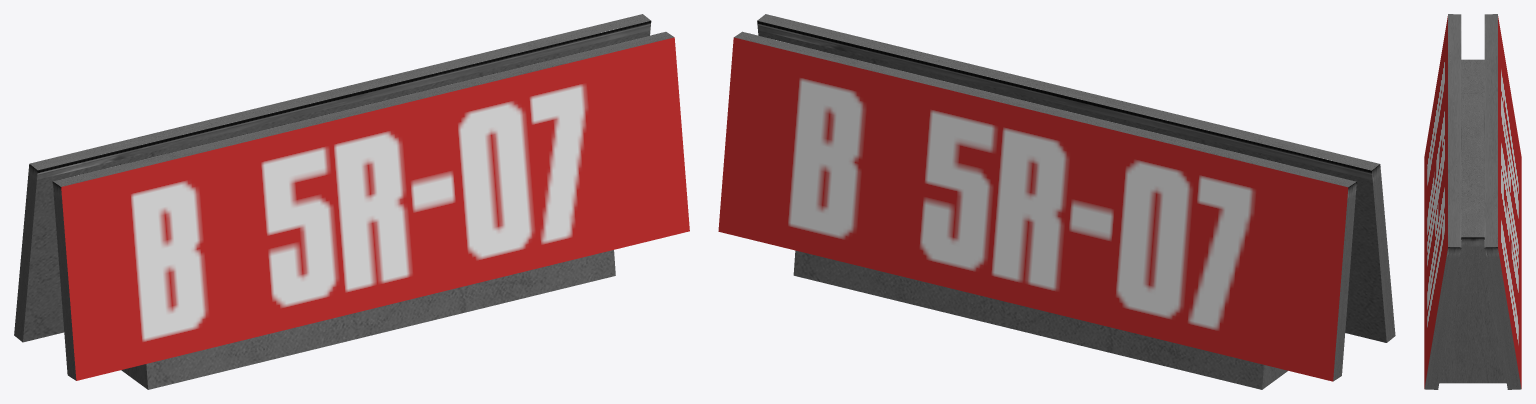
File: sign_a.FBX
3 views of the same model, side by side, from view 1: azimuth 30°, elevation 25°; view 2: azimuth 150°, elevation 25°; view 3: azimuth 270°, elevation 25° (orthographic). The views are drawn at different scales.
Parts seen in each view (by area): view 1: sign_a; view 2: sign_a; view 3: sign_a.
Boxes of the visible parts, bbox=[...] form: sign_a: bbox=[14, 14, 689, 389]; sign_a: bbox=[718, 14, 1395, 389]; sign_a: bbox=[1424, 14, 1521, 389].
Bounding box in the file's own units: 10.67 × 3.5 × 1.88.
